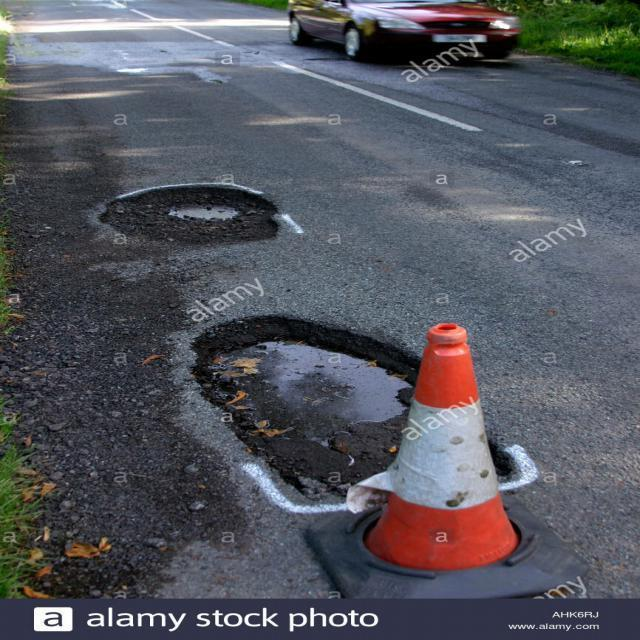Buraco: (185, 312, 516, 505), (95, 181, 283, 248)
